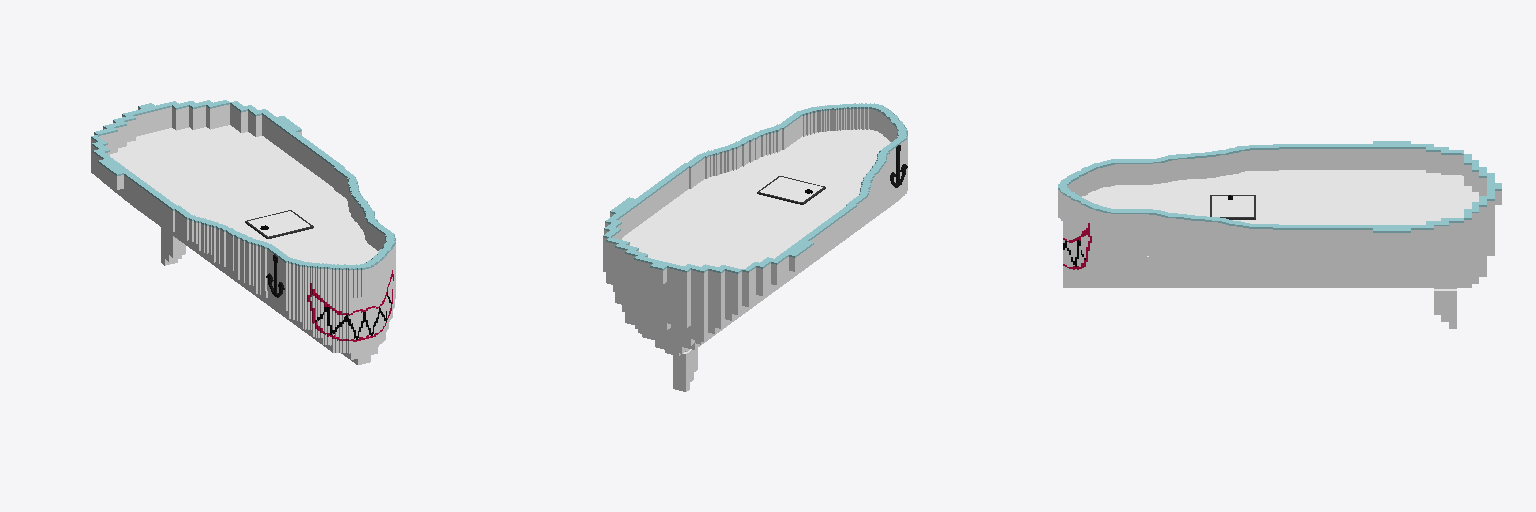
The picture shows the model from 3 angles: view 1: azimuth 30°, elevation 25°; view 2: azimuth 150°, elevation 25°; view 3: azimuth 270°, elevation 25°; orthographic projection.
Parts seen in each view (by area): view 1: Model; view 2: Model; view 3: Model.
Part boxes in pixels (left/top/right/bottom): Model: left=91, top=100, right=395, bottom=364; Model: left=603, top=103, right=907, bottom=391; Model: left=1058, top=141, right=1501, bottom=328.
Bounding box in the file's own units: 15.38 × 11.12 × 32.
Materials: 1 (1 with a texture image).